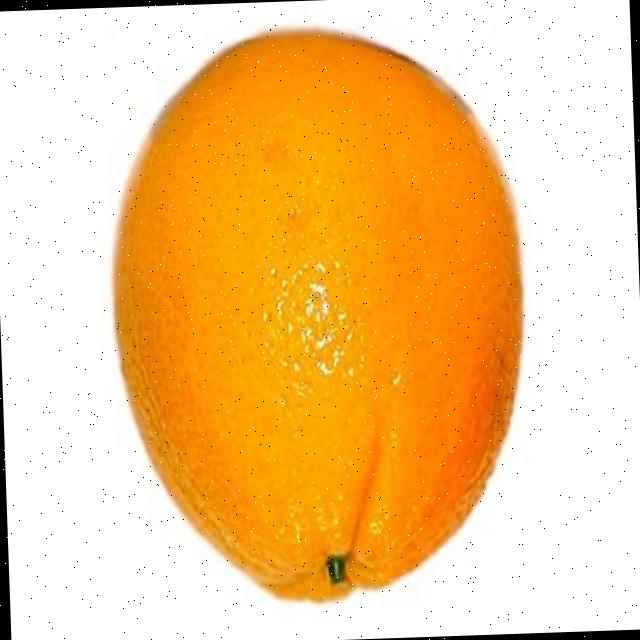Jeruk: (102, 23, 535, 612)
